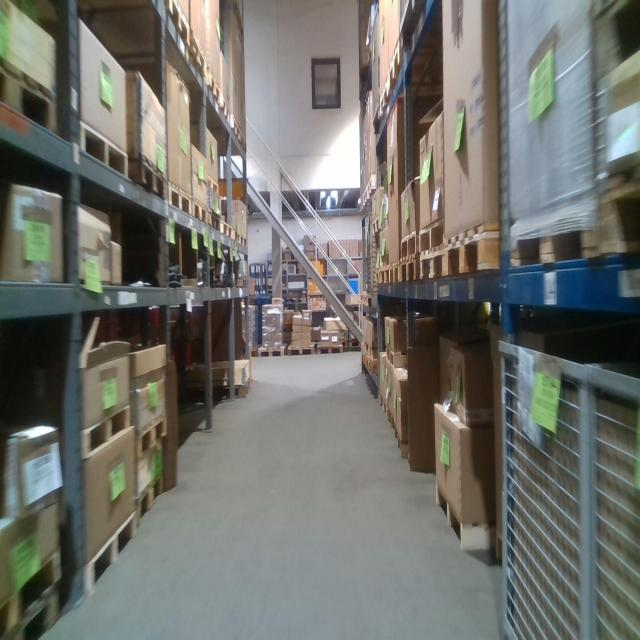pallet: (507, 195, 598, 275), (0, 535, 62, 639), (77, 507, 138, 596), (1, 56, 58, 145), (435, 480, 497, 558), (593, 179, 639, 263), (446, 219, 500, 279), (77, 121, 130, 182), (4, 581, 61, 635), (81, 399, 130, 458), (135, 469, 165, 532), (132, 151, 168, 200), (134, 407, 172, 453), (164, 168, 192, 225), (189, 376, 252, 400), (160, 5, 190, 55), (419, 242, 448, 281), (186, 29, 206, 80), (204, 70, 222, 114), (418, 223, 444, 253), (387, 37, 400, 90), (192, 196, 208, 234), (400, 228, 418, 261), (396, 426, 414, 458), (402, 255, 419, 287), (385, 348, 409, 368), (389, 261, 404, 288), (220, 96, 232, 129), (230, 114, 242, 146), (363, 337, 382, 356), (388, 408, 399, 438), (208, 209, 222, 232), (219, 220, 234, 241), (378, 263, 390, 287), (366, 173, 377, 198), (257, 347, 284, 357), (317, 344, 343, 354), (367, 354, 380, 373), (288, 346, 314, 355), (380, 395, 390, 418), (371, 217, 384, 234), (359, 189, 366, 213), (234, 226, 240, 244), (241, 235, 248, 247)
stillage: (496, 329, 587, 640), (587, 350, 640, 640), (365, 214, 373, 296)
